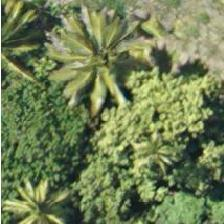coconut_tree: (33, 7, 123, 97), (42, 6, 132, 96), (0, 174, 76, 223)
